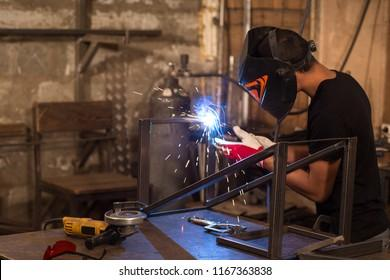gloves: (214, 126, 265, 168)
